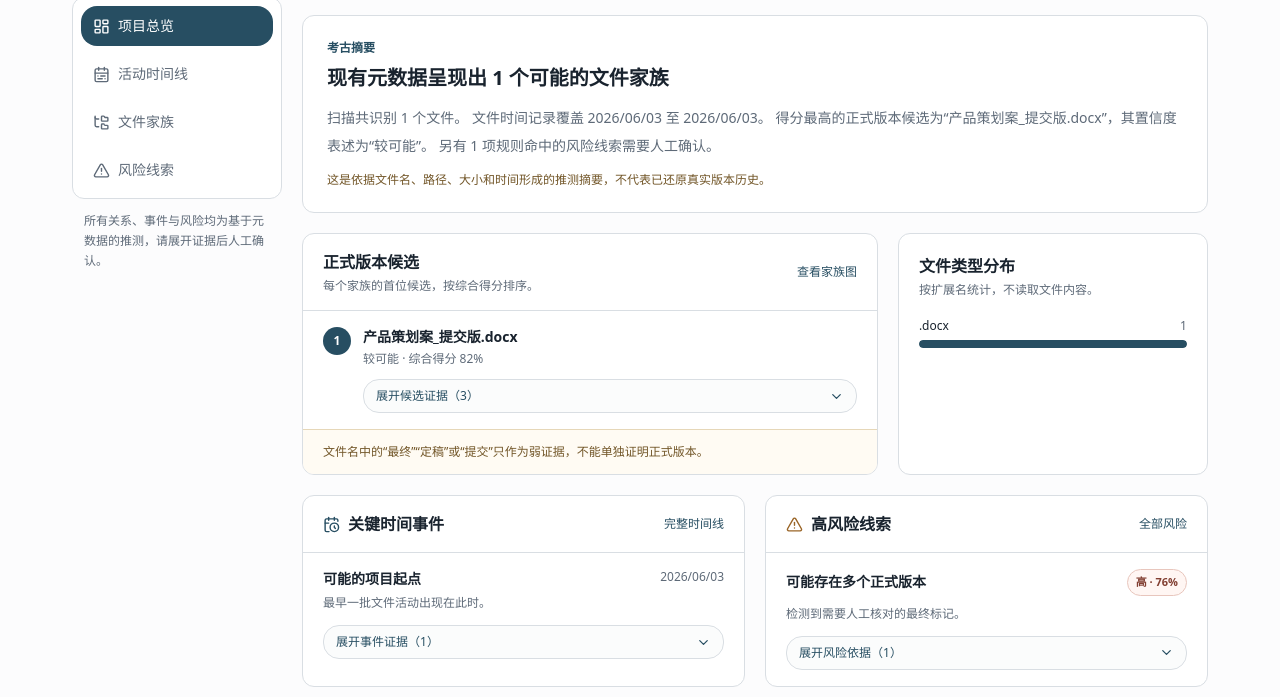
Scenario: project report UI › navigates from a candidate to its file investigation record
(page scrolled)
Click the link "产品策划案_提交版.docx": (440, 336) [363,327,518,346]
(page scrolled)
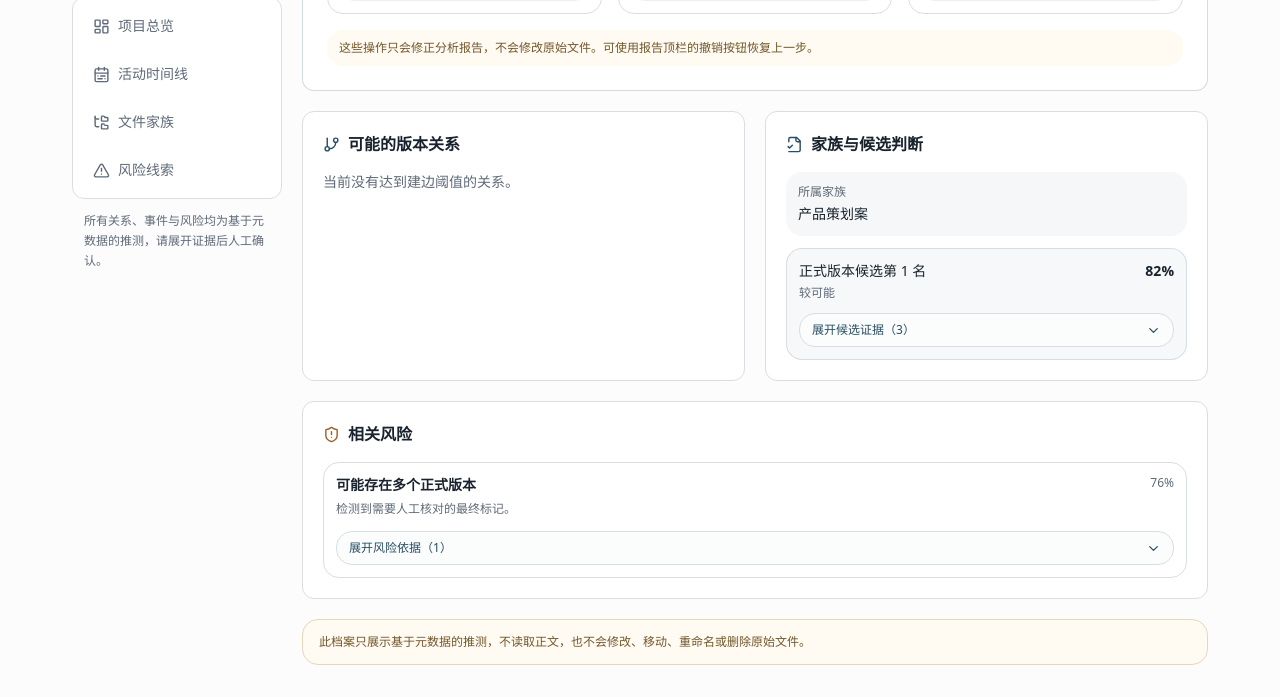
Check: the text "这些操作只会修正分析报告，不会修改原始文件。可使用报告顶栏的撤销按钮恢复上一步。" is shown, box [327,30,1183,66]
Check: the text "此档案只展示基于元数据的推测，不读取正文，也不会修改、移动、重命名或删除原始文件。" is shown, box [302,619,1208,665]
